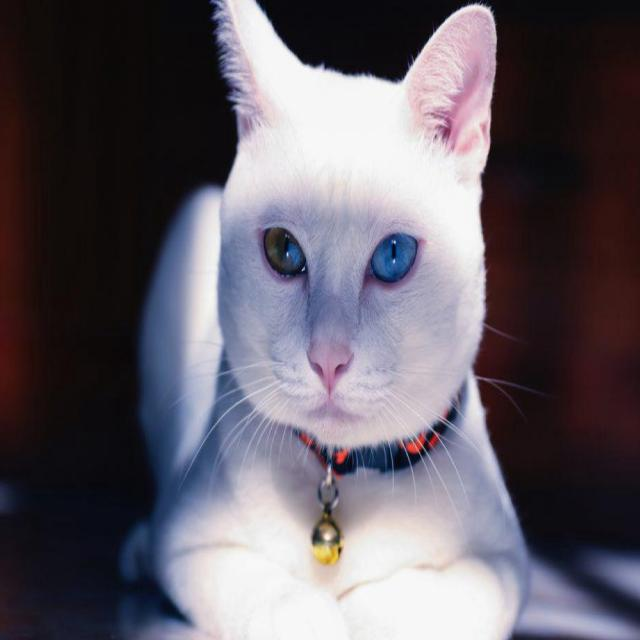Khao Manee: (111, 0, 535, 640)
